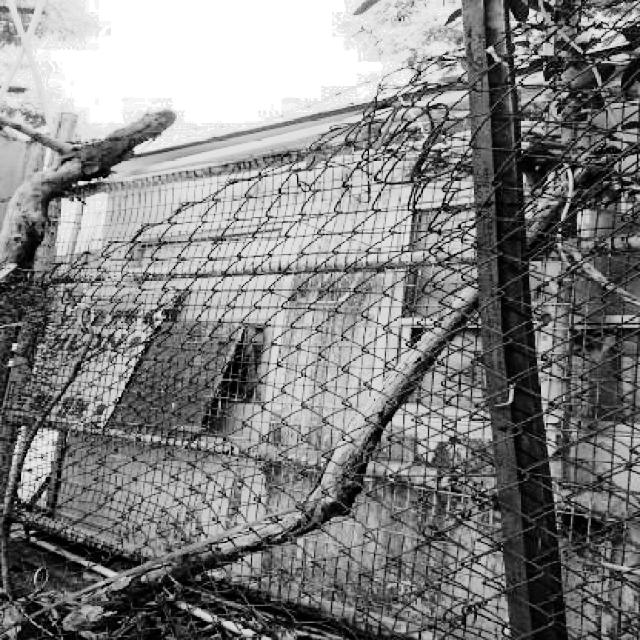anomaly-fence: (6, 0, 640, 315)
